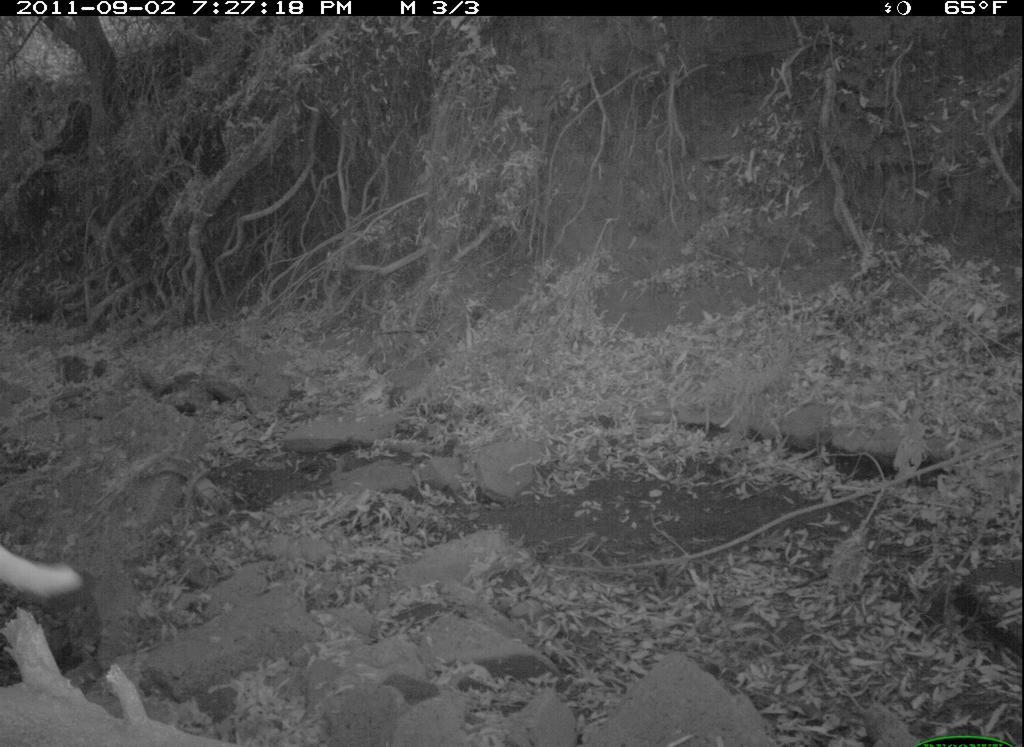cat: (1, 533, 94, 622)
